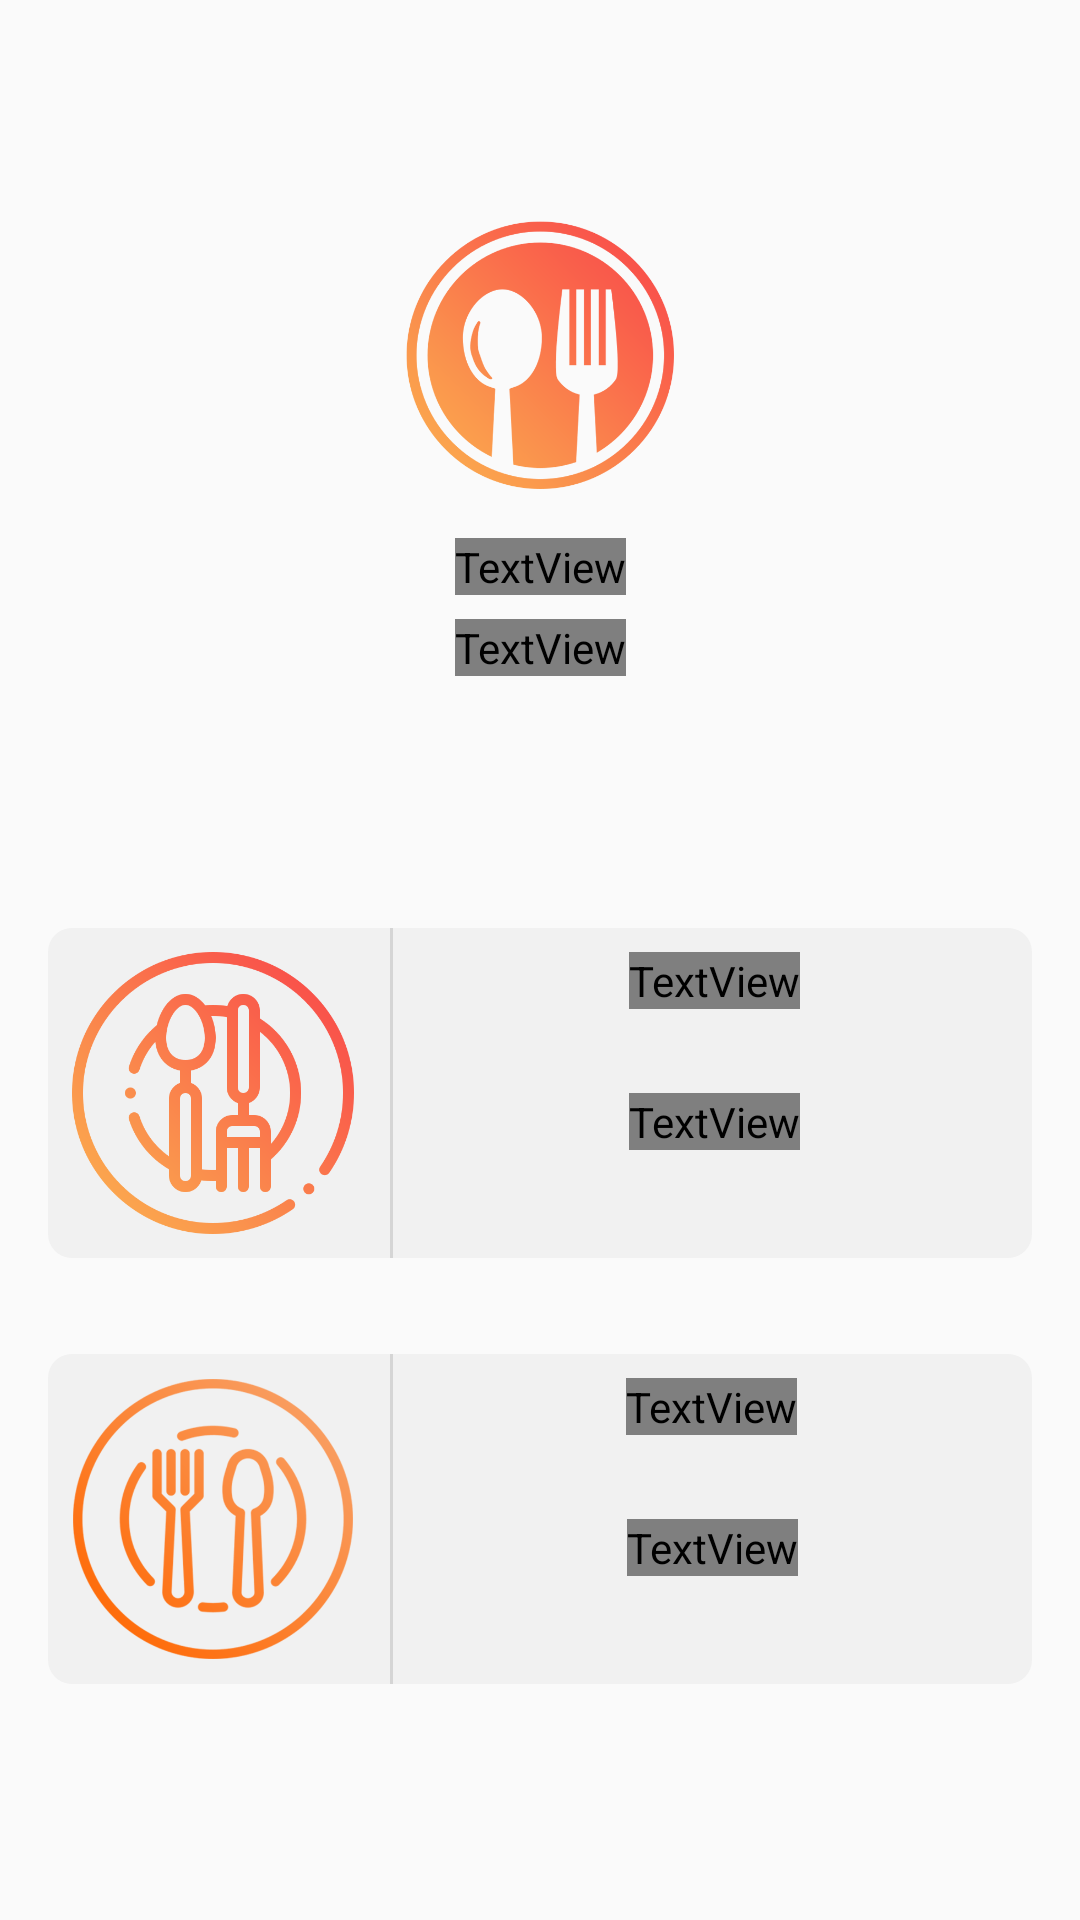

Icons on this 1080w x 1920h Android screen, each with its box as (x1, y1, x2, y2):
dinner: (73, 1379, 353, 1659)
lunch: (72, 952, 354, 1234)
